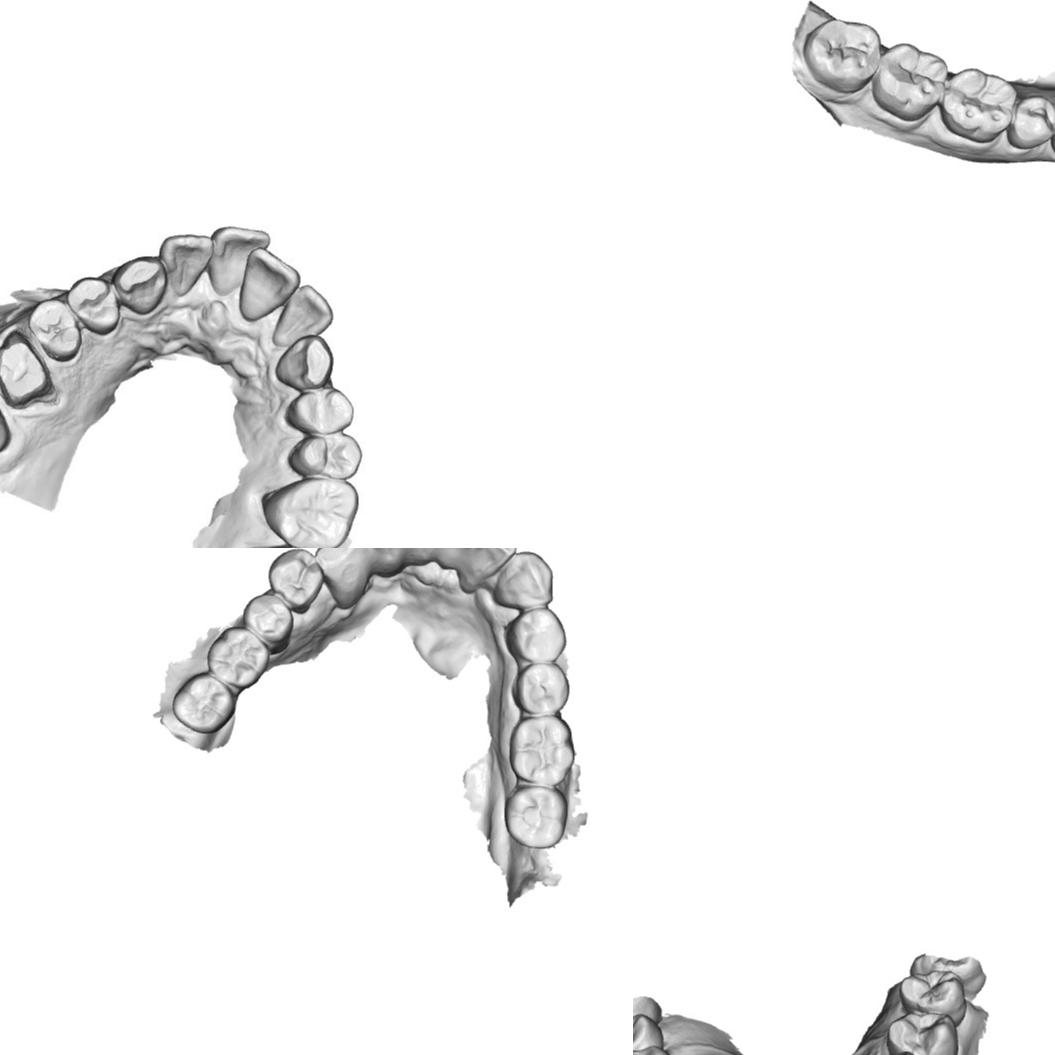canine: (487, 550, 556, 611), (311, 548, 374, 609), (113, 253, 168, 315), (277, 335, 333, 393)
crown: (0, 334, 52, 407)
incisor: (208, 224, 270, 294), (242, 247, 299, 320), (271, 278, 332, 345), (159, 228, 213, 298), (467, 548, 519, 584), (361, 548, 411, 577), (436, 548, 480, 570), (407, 548, 449, 567)
molar: (261, 472, 366, 548), (870, 41, 952, 123), (801, 16, 883, 94), (942, 64, 1016, 146), (510, 713, 578, 786), (503, 783, 575, 851), (170, 670, 238, 736), (205, 623, 271, 690)
premolar: (278, 433, 370, 481), (898, 968, 966, 1028), (502, 605, 570, 664), (265, 548, 325, 614), (65, 272, 124, 335), (26, 296, 82, 362), (282, 385, 357, 434), (885, 1008, 959, 1055), (240, 590, 293, 652), (512, 663, 571, 716), (1006, 93, 1055, 152), (633, 1012, 664, 1055)
